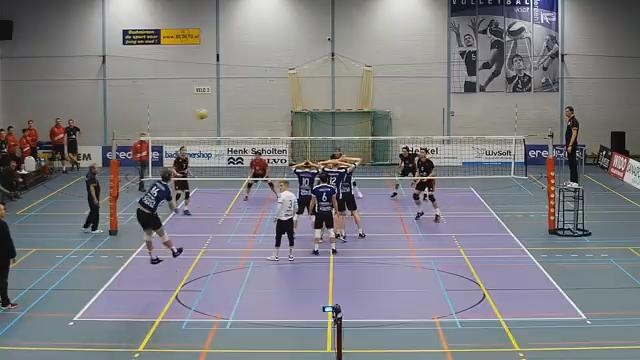battuta: (133, 166, 185, 265)
